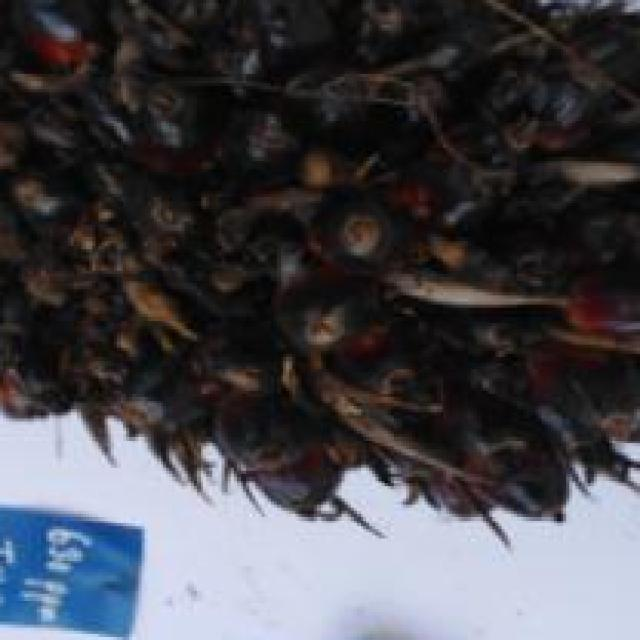unripe: (0, 0, 640, 625)
